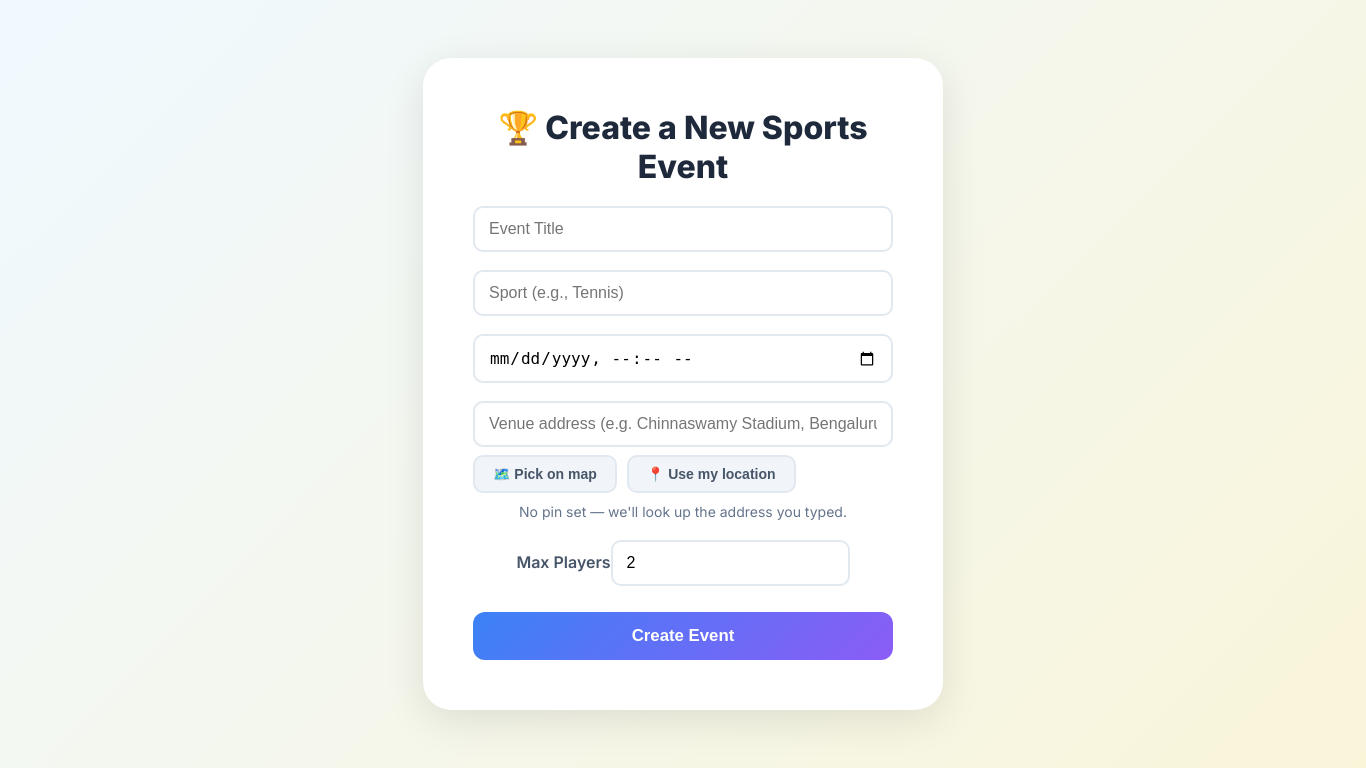
CreateEvent › failures › stays on the form after a failure so input isn't lost
Type "Sunday Football" into the field with placeholder "Event Title" at (683, 229), box [473,206,893,252]
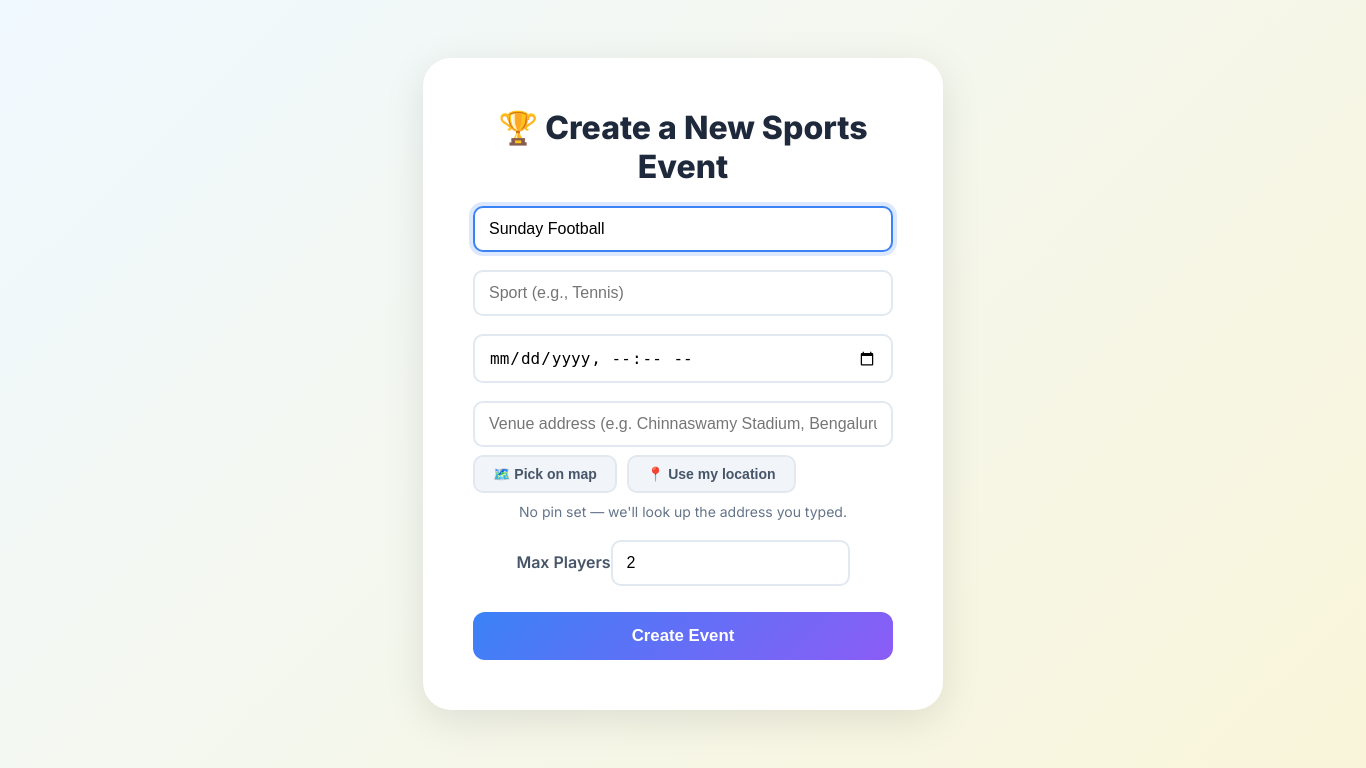
Type "Football" into the field with placeholder "Sport (e.g., Tennis)" at (683, 293), box [473,270,893,316]
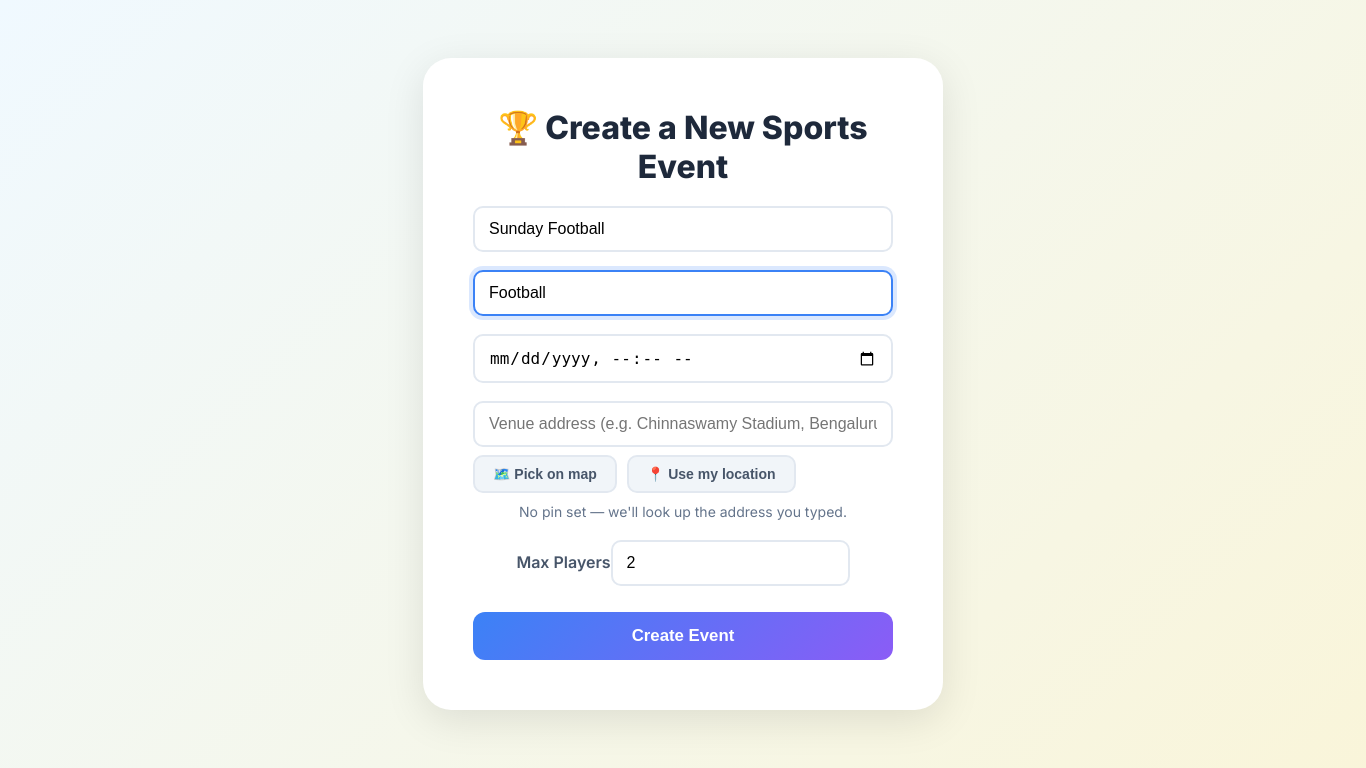
Type "2027-09-15T18:30" into the 3rd field named "date" at (683, 358), box [473,334,893,383]
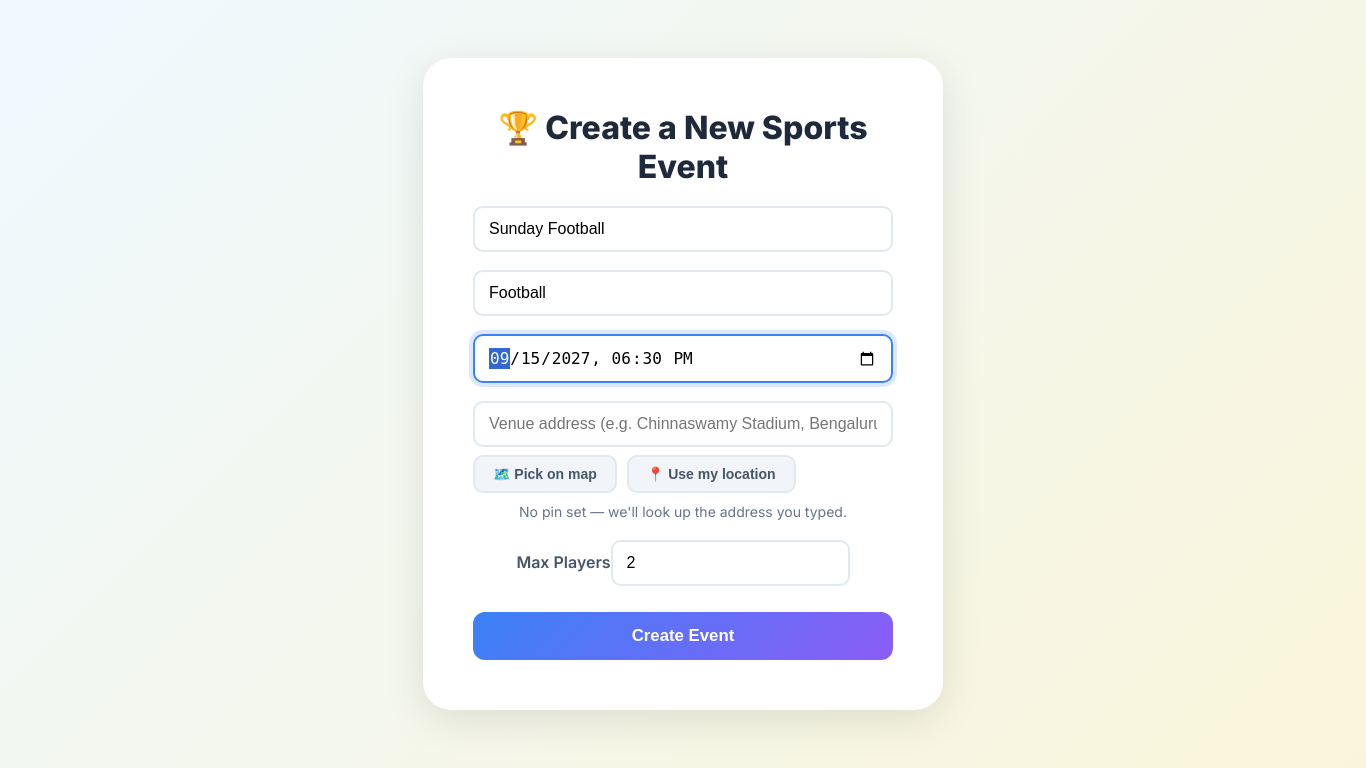
Type "Koramangala Turf, Bengaluru" into the field with placeholder "Venue address (e.g. Chinnaswamy Stadium, Bengaluru)" at (683, 424), box [473,401,893,447]
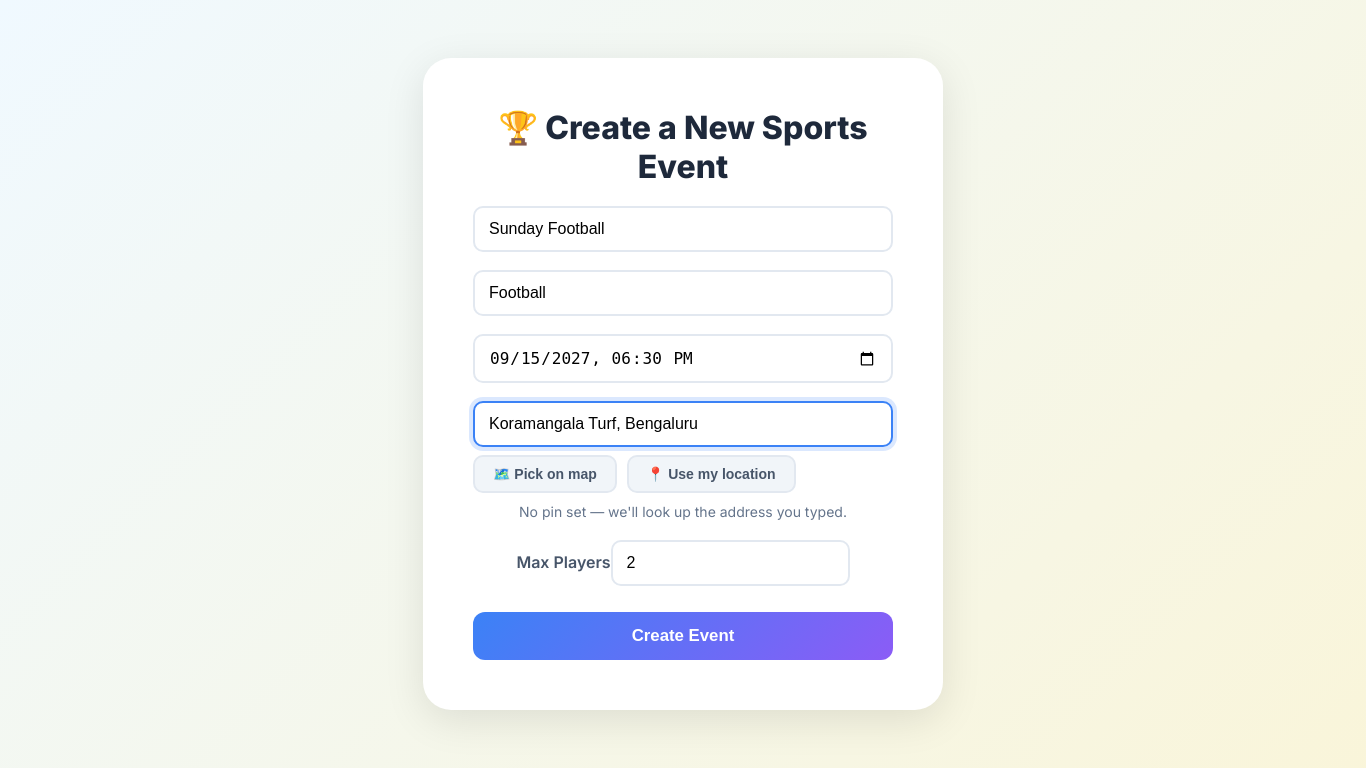
Click the button "Create Event" at (683, 636), box [473,612,893,660]
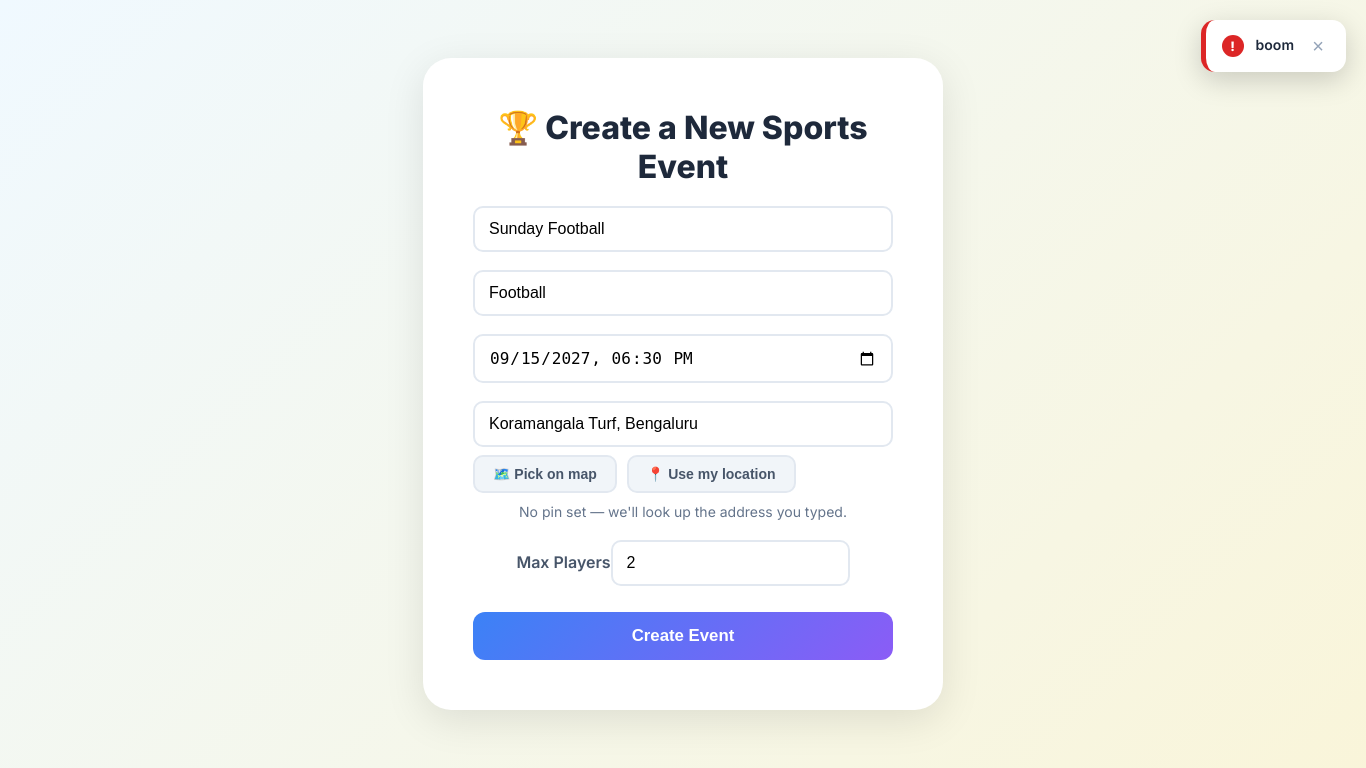
Expected: the text "boom" is shown, [1256,34,1294,55]
